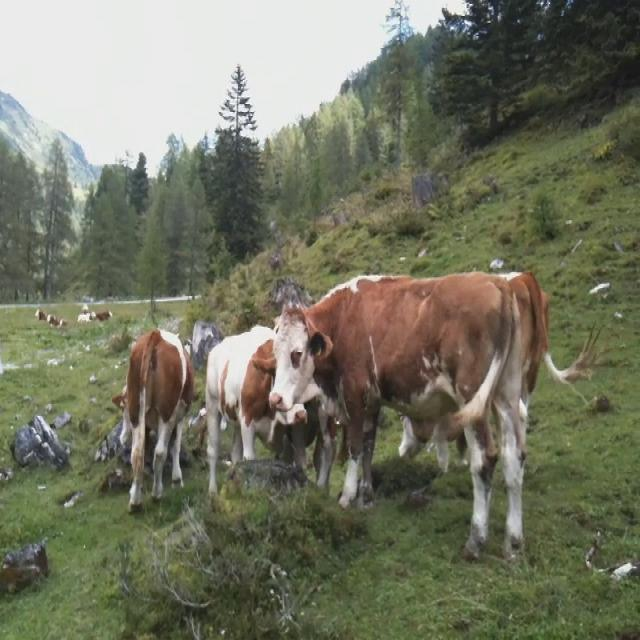cow: (266, 269, 525, 563), (396, 269, 599, 472), (203, 324, 306, 497), (111, 328, 193, 504), (46, 312, 66, 327), (93, 307, 111, 321), (33, 307, 46, 319)
